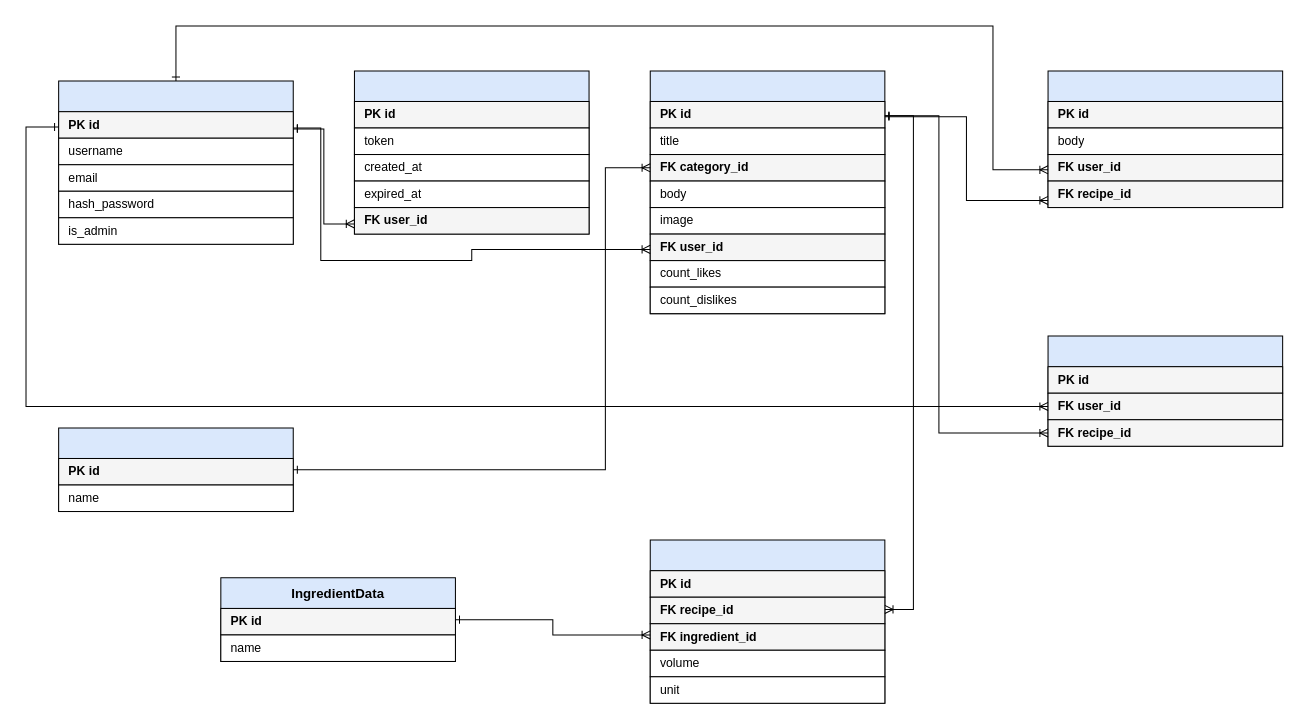
The diagram is 1301 pixels wide and 721 high, and some of its shapes have lost their labels. The shapes that lost their labels are listed below. From the top down, each one's box as (x1, y1, x2, y2) in pixels, then its label:
(353, 70, 589, 234): UserTokens
(1047, 70, 1283, 208): CommentData
(58, 80, 293, 244): UserData
(649, 70, 885, 314): RecipeData
(1047, 335, 1283, 446): FavoriteRecipeData
(58, 427, 293, 512): CategoryData
(649, 539, 885, 703): RecipeIngredientData
